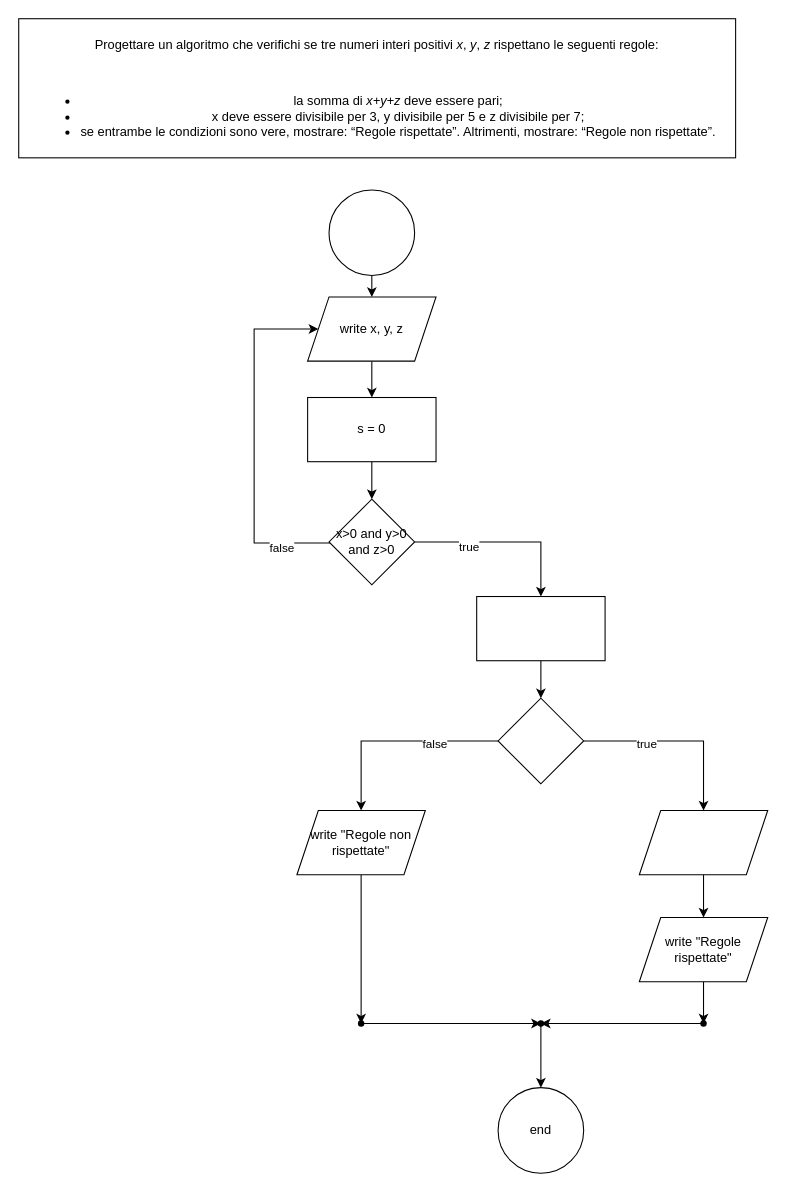
This 786x1192 diagram has some shape labels left out. Here are the shapes that lost their labels. From the top down, the centre of each, then its label:
At (371,232): "start".
At (540,628): "s = x+y+z".
At (540,740): "s%2==0 and x%3==0 and y%5==0 and z%7==0".
At (703,842): "write s".
